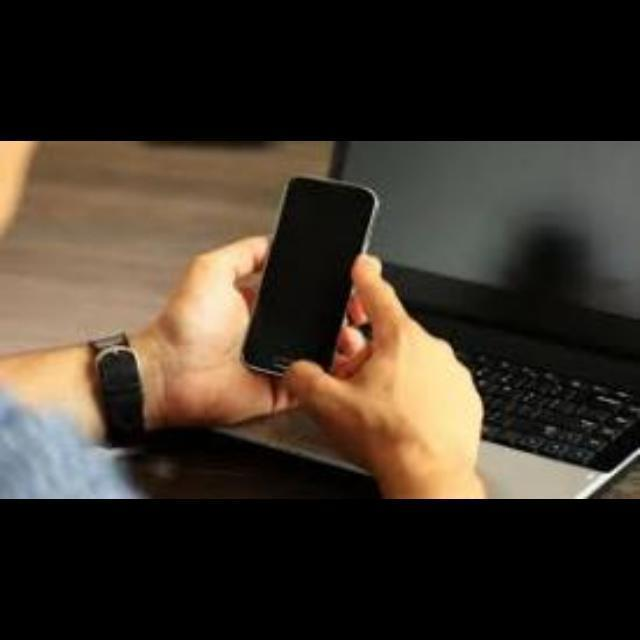phone: (213, 166, 403, 414)
